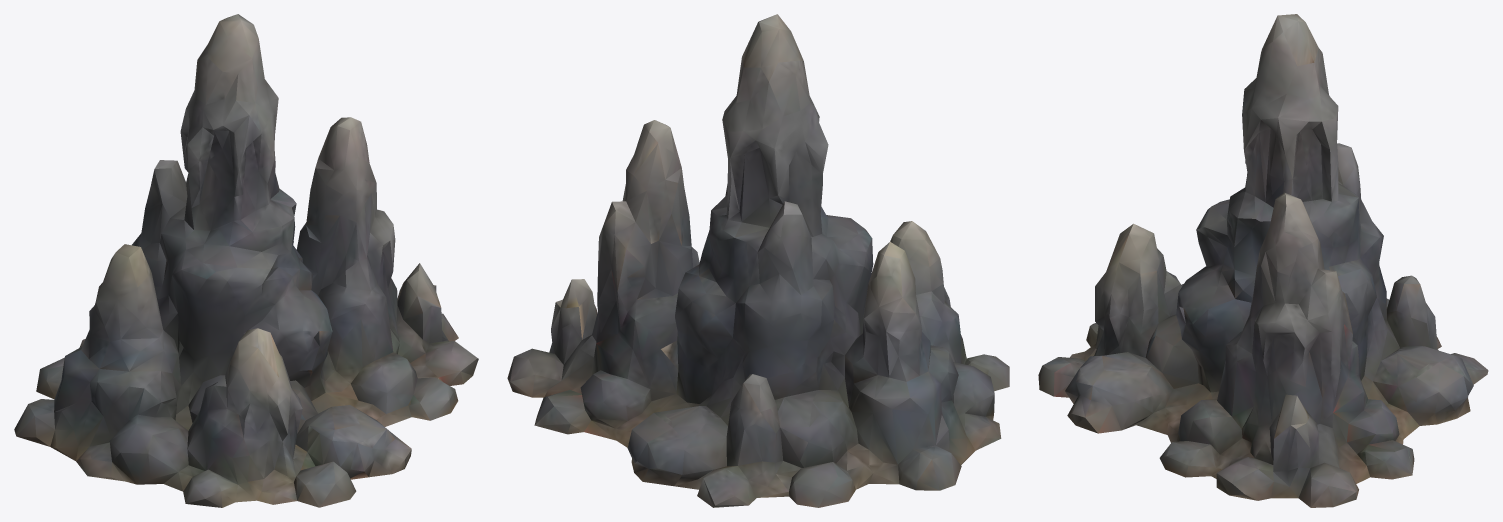
The model's file is estalagmitas_b.glb.
The picture shows the model from 3 angles, left to right: view 1: azimuth 30°, elevation 25°; view 2: azimuth 150°, elevation 25°; view 3: azimuth 270°, elevation 25°; orthographic projection. The views are drawn at different scales.
Parts seen in each view (by area): view 1: estalagmitas_b_malla; view 2: estalagmitas_b_malla; view 3: estalagmitas_b_malla.
Part boxes in pixels (x1,y1,x2,y2): estalagmitas_b_malla: [14, 14, 478, 507]; estalagmitas_b_malla: [507, 14, 1009, 507]; estalagmitas_b_malla: [1038, 14, 1488, 507].
Size of the model in its own units: 0.4119 by 0.3521 by 0.3771.
1 material, 1 textured.
